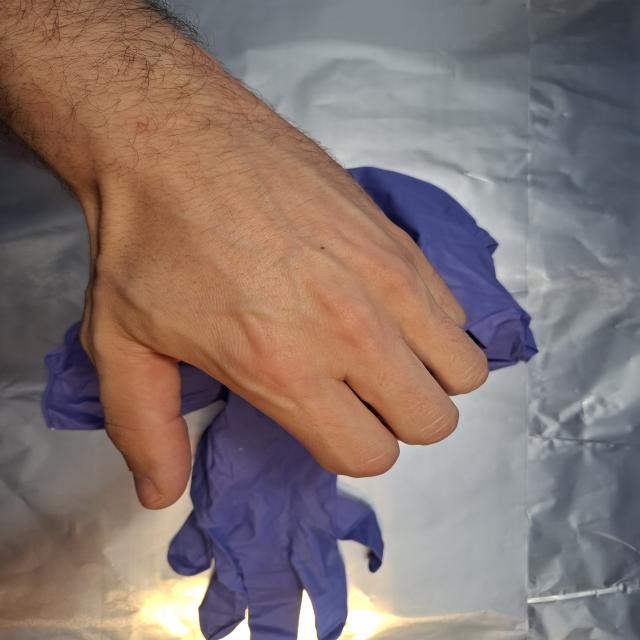glove_off: (46, 78, 493, 512)
